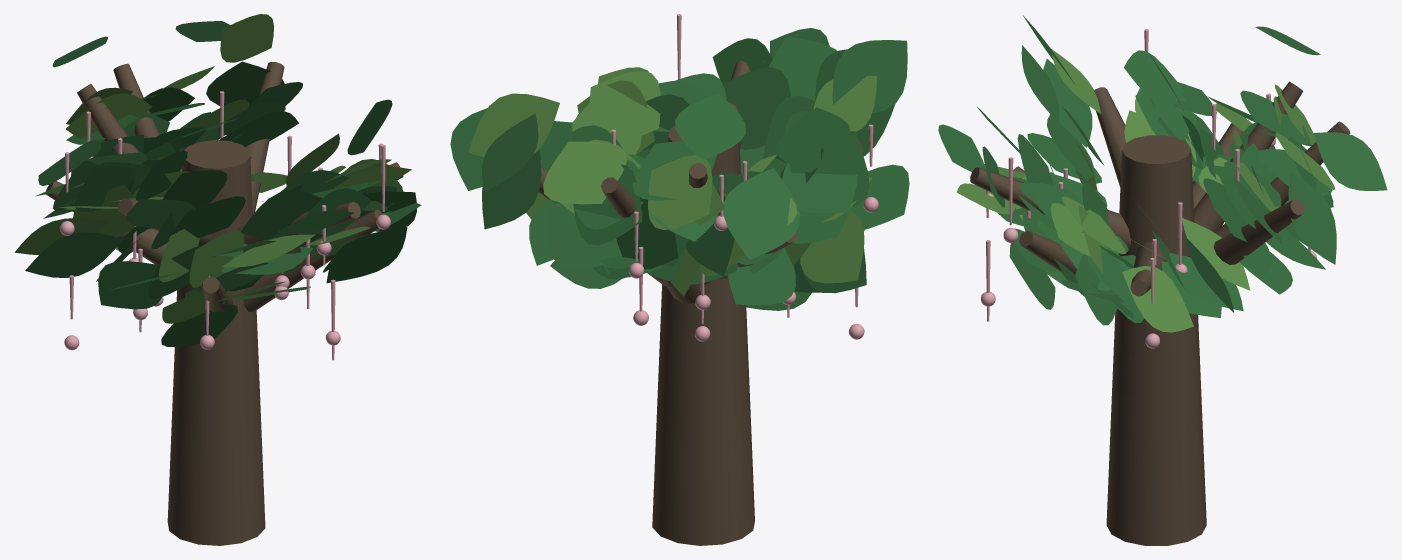
The model's file is hijal-tree.glb.
3 renders of one model, left to right at view 1: azimuth 30°, elevation 25°; view 2: azimuth 150°, elevation 25°; view 3: azimuth 270°, elevation 25°, orthographic. The views are drawn at different scales.
Visible parts, largest first — view 1: main-trunk, leaf-6-5, leaf-2-10, leaf-6-8, leaf-9-11, branch-2, leaf-9-9, leaf-5-2, leaf-4-11, leaf-4-7, leaf-5-4, leaf-5-5 (+39 smaller); view 2: main-trunk, leaf-6-10, leaf-8-6, leaf-5-7, leaf-7-1, leaf-3-7, leaf-7-7, leaf-6-1, leaf-9-11, leaf-5-8, leaf-9-9, leaf-8-8 (+32 smaller); view 3: main-trunk, leaf-9-12, leaf-9-9, leaf-1-1, branch-9, leaf-5-9, leaf-5-3, branch-7, branch-3, leaf-9-1, branch-5, leaf-5-10 (+36 smaller).
Boxes of the visible parts, x1=… form: main-trunk: x1=167, y1=140, x2=265, y2=545; leaf-6-5: x1=25, y1=232, x2=123, y2=277; leaf-2-10: x1=326, y1=226, x2=407, y2=283; leaf-6-8: x1=98, y1=261, x2=161, y2=309; leaf-9-11: x1=220, y1=14, x2=273, y2=62; branch-2: x1=243, y1=209, x2=382, y2=312; leaf-9-9: x1=206, y1=61, x2=284, y2=105; leaf-5-2: x1=172, y1=196, x2=245, y2=238; leaf-4-11: x1=189, y1=230, x2=244, y2=287; leaf-4-7: x1=161, y1=304, x2=237, y2=346; leaf-5-4: x1=75, y1=162, x2=133, y2=211; leaf-5-5: x1=163, y1=170, x2=227, y2=208; main-trunk: x1=652, y1=126, x2=754, y2=545; leaf-6-10: x1=723, y1=168, x2=799, y2=259; leaf-8-6: x1=543, y1=141, x2=626, y2=204; leaf-5-7: x1=832, y1=40, x2=907, y2=113; leaf-7-1: x1=648, y1=155, x2=712, y2=229; leaf-3-7: x1=724, y1=67, x2=790, y2=149; leaf-7-7: x1=675, y1=93, x2=745, y2=159; leaf-6-1: x1=800, y1=210, x2=864, y2=283; leaf-9-11: x1=468, y1=93, x2=559, y2=157; leaf-5-8: x1=789, y1=133, x2=869, y2=206; leaf-9-9: x1=482, y1=149, x2=541, y2=229; leaf-8-8: x1=547, y1=205, x2=621, y2=269; main-trunk: x1=1106, y1=135, x2=1206, y2=545; leaf-9-12: x1=1313, y1=132, x2=1387, y2=190; leaf-9-9: x1=1288, y1=172, x2=1336, y2=264; leaf-1-1: x1=1122, y1=266, x2=1193, y2=332; branch-9: x1=1188, y1=199, x2=1304, y2=264; leaf-5-9: x1=1124, y1=50, x2=1184, y2=108; leaf-5-3: x1=1043, y1=59, x2=1092, y2=147; branch-7: x1=1193, y1=81, x2=1303, y2=232; branch-3: x1=970, y1=167, x2=1131, y2=254; leaf-9-1: x1=1182, y1=218, x2=1250, y2=290; branch-5: x1=1094, y1=87, x2=1126, y2=186; leaf-5-10: x1=1135, y1=73, x2=1196, y2=139.
Bounding box in the file's own units: 2.32 × 2.67 × 2.33.
